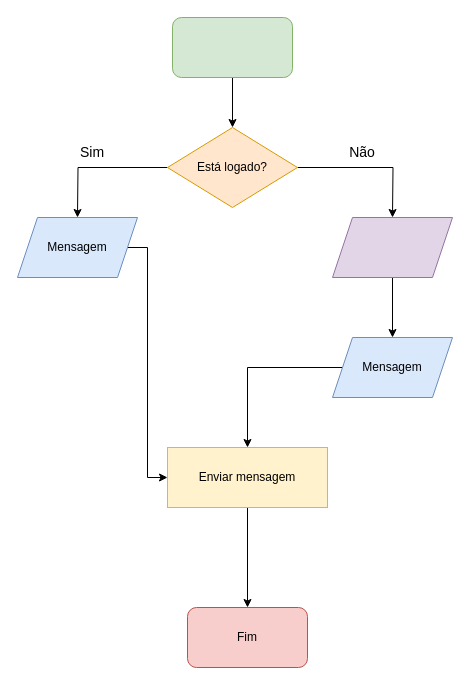
The diagram is 470 pixels wide and 685 high, and some of its shapes have lost their labels. Here are the shapes that lost their labels. From the top down, the centre of each, then its label:
[232,47]: Inicio
[392,247]: Entrar
